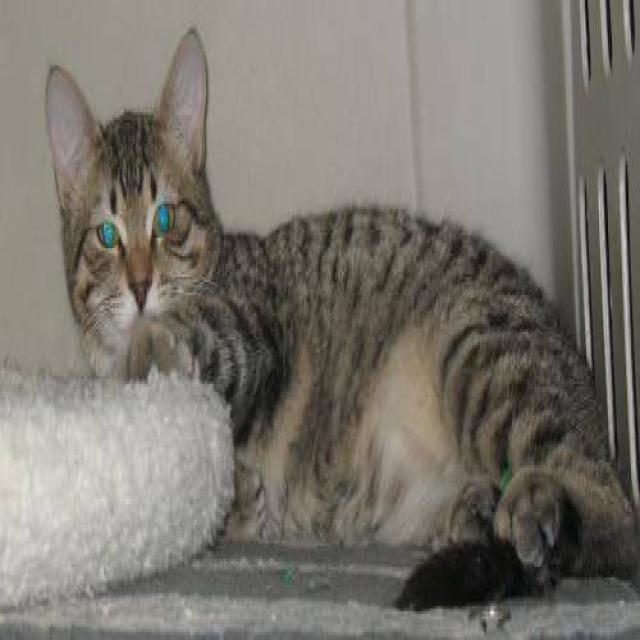cat: (44, 24, 638, 606)
